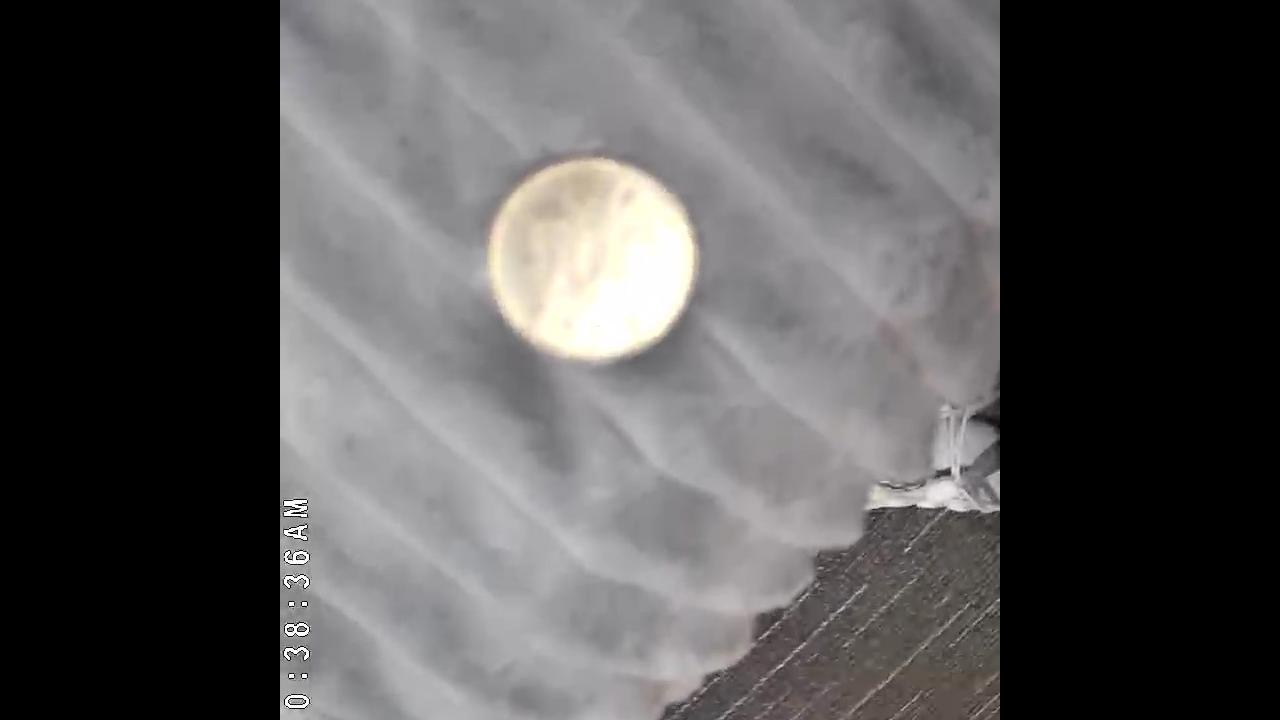coin: (484, 145, 708, 369)
